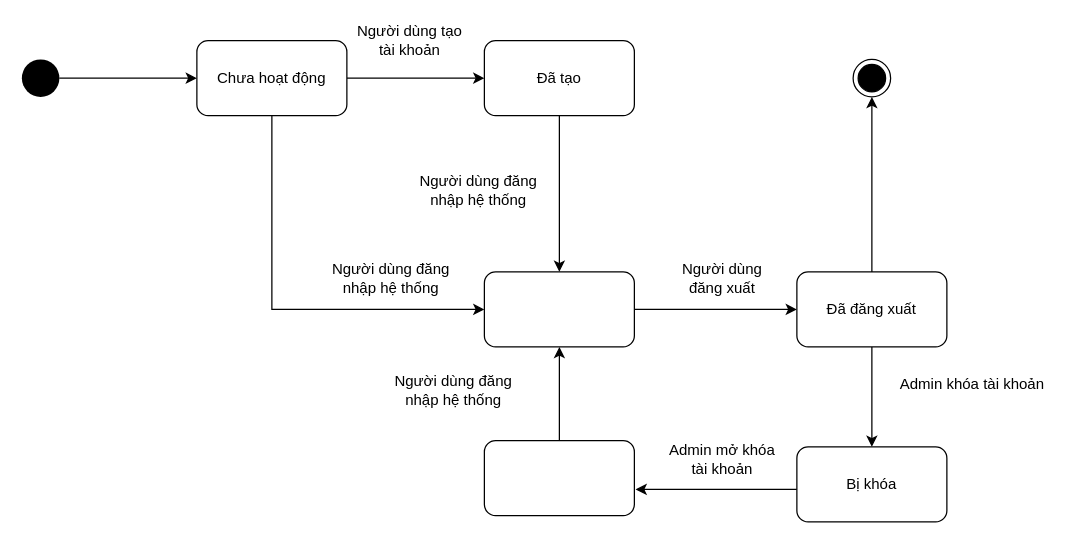
The diagram is 1074 pixels wide and 544 high, and some of its shapes have lost their labels. Here are the shapes that lost their labels. From the top down, the centre of each, then its label:
At pixel 558 309: "Đã đăng nhập".
At pixel 558 477: "Đã mở khóa".
